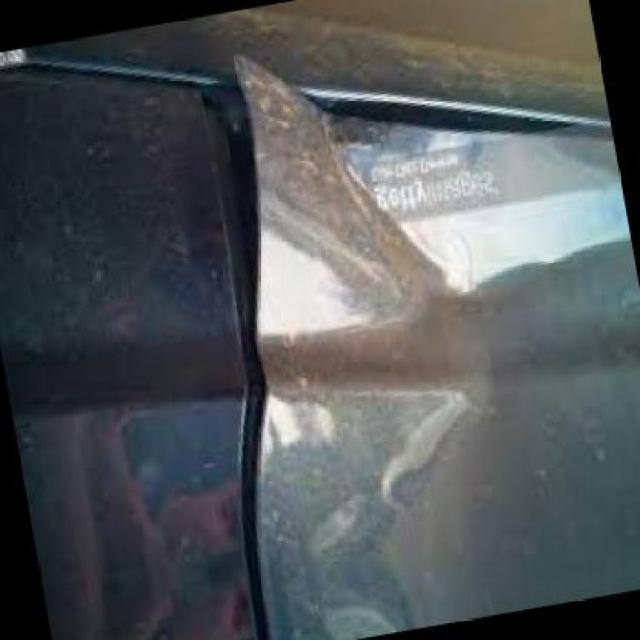dent: (234, 57, 454, 391)
